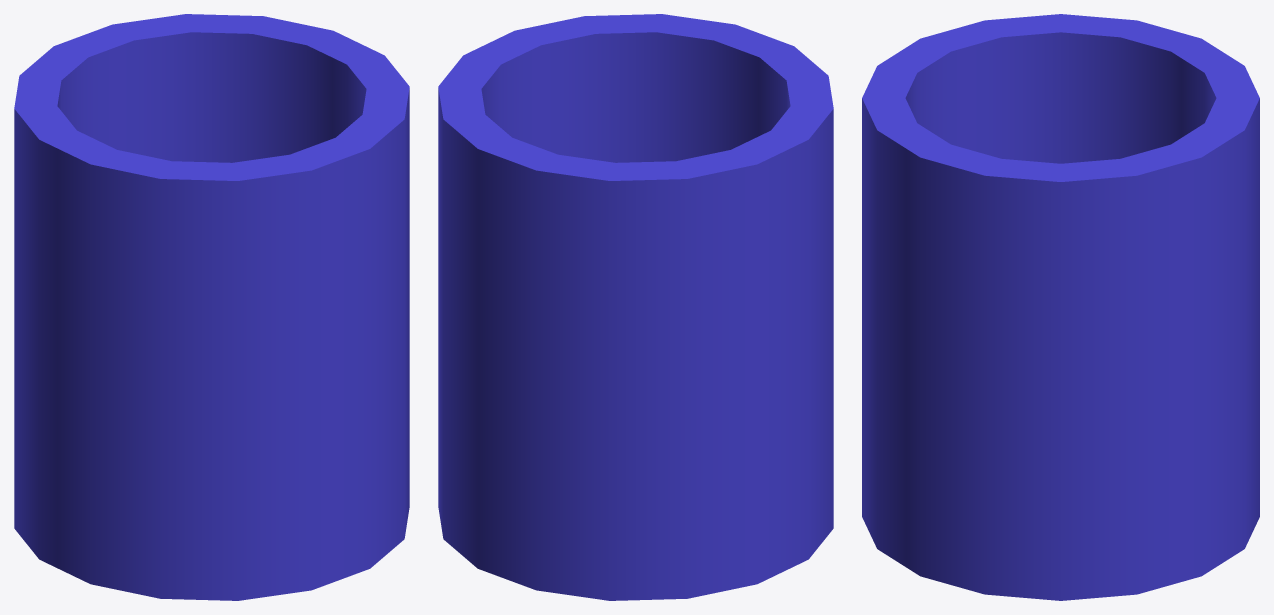
The model's file is Cup.fbx.
3 renders of one model, left to right at view 1: azimuth 30°, elevation 25°; view 2: azimuth 150°, elevation 25°; view 3: azimuth 270°, elevation 25°, orthographic.
Visible parts, largest first — view 1: Cup; view 2: Cup; view 3: Cup.
Boxes of the visible parts, bbox=[...] form: Cup: bbox=[14, 14, 409, 600]; Cup: bbox=[438, 14, 833, 600]; Cup: bbox=[862, 14, 1259, 600].
Bounding box in the file's own units: 0.1 × 0.1161 × 0.1.
